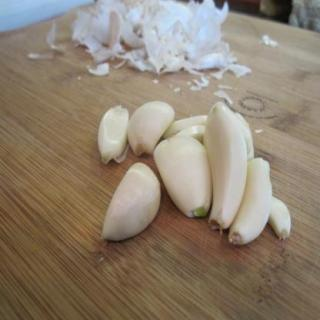Bawang Putih: (204, 103, 249, 232), (102, 164, 163, 244), (154, 136, 213, 218), (232, 158, 273, 248), (128, 102, 176, 158), (99, 107, 130, 164)
